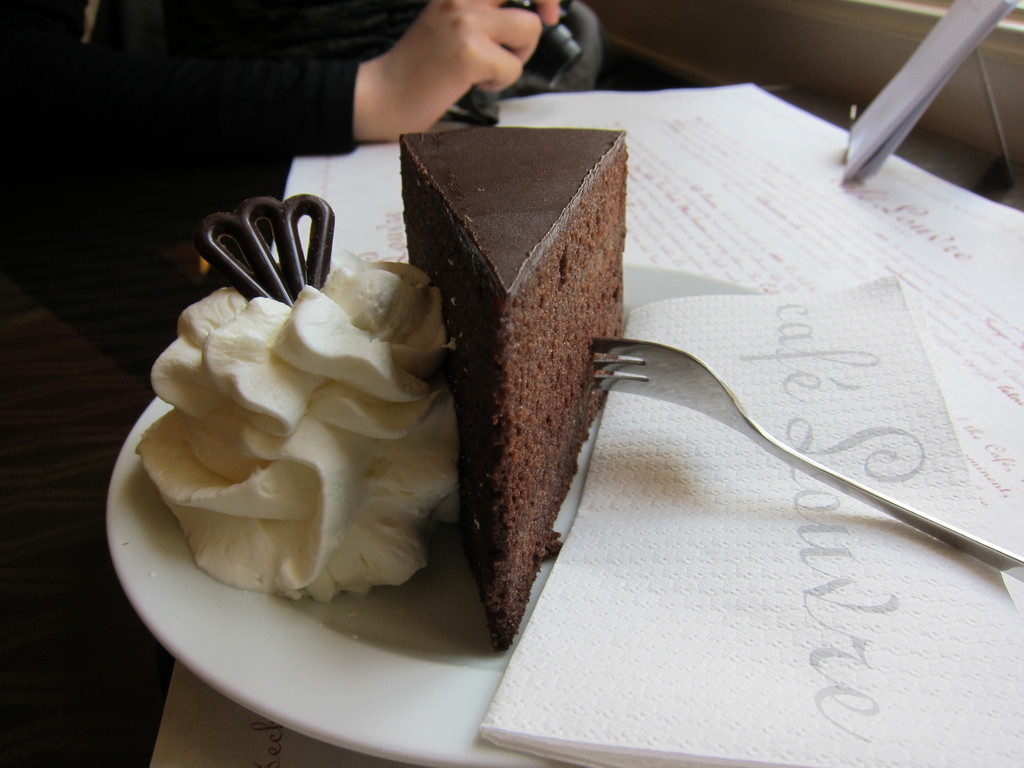cake: (396, 129, 625, 648)
